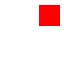square: (39, 5, 59, 25)
